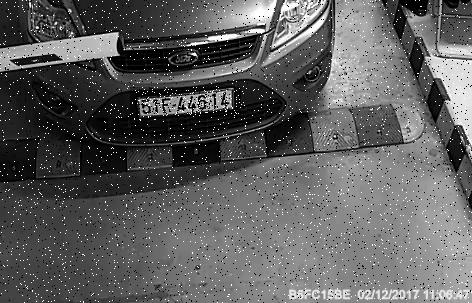License-plate: (131, 88, 242, 118)
